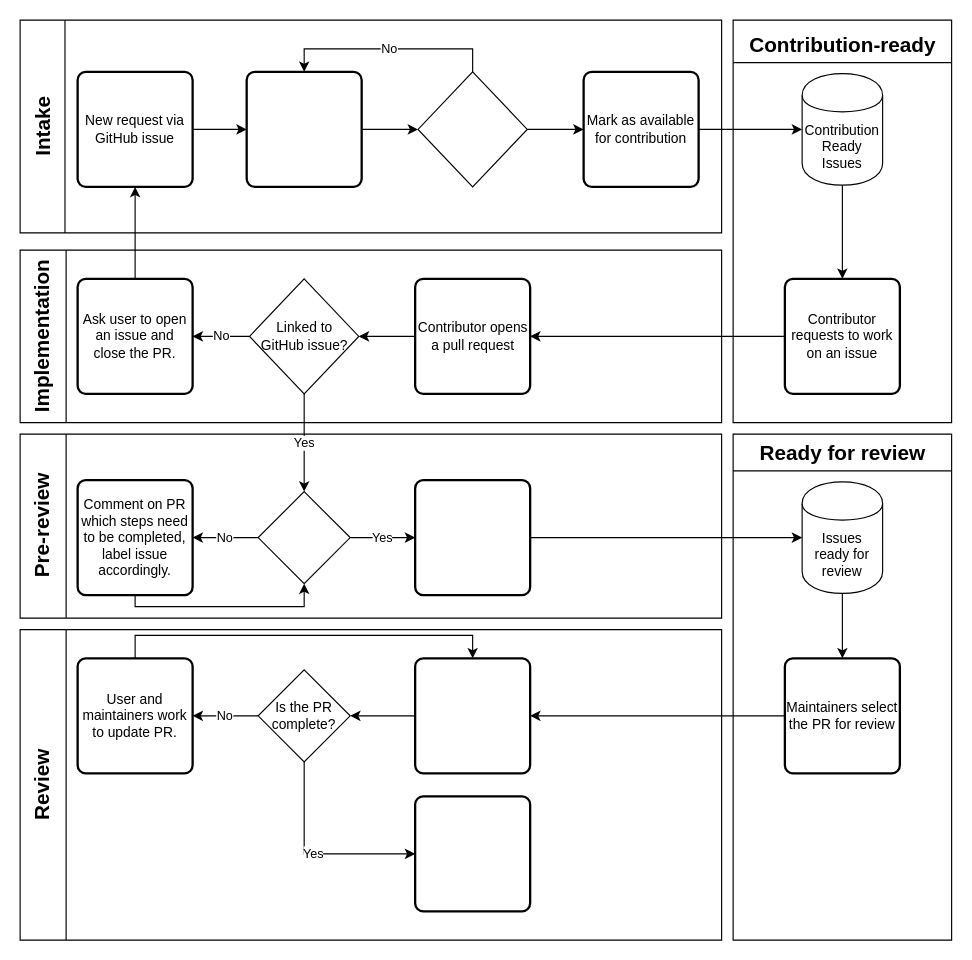
Some shapes in this 972 by 960 pixel diagram are drawn without their labels. Each missing label, with the centre of its shape:
"Community and maintainer discussion" goes at (x=303, y=128).
"Intake steps complete?" goes at (x=472, y=129).
"Maintainers review the PR" goes at (x=472, y=715).
"Mark as ready for review" goes at (x=472, y=537).
"Merge the PR and update and close the issue." goes at (x=472, y=853).
"Pre-review steps complete?" goes at (x=303, y=537).
